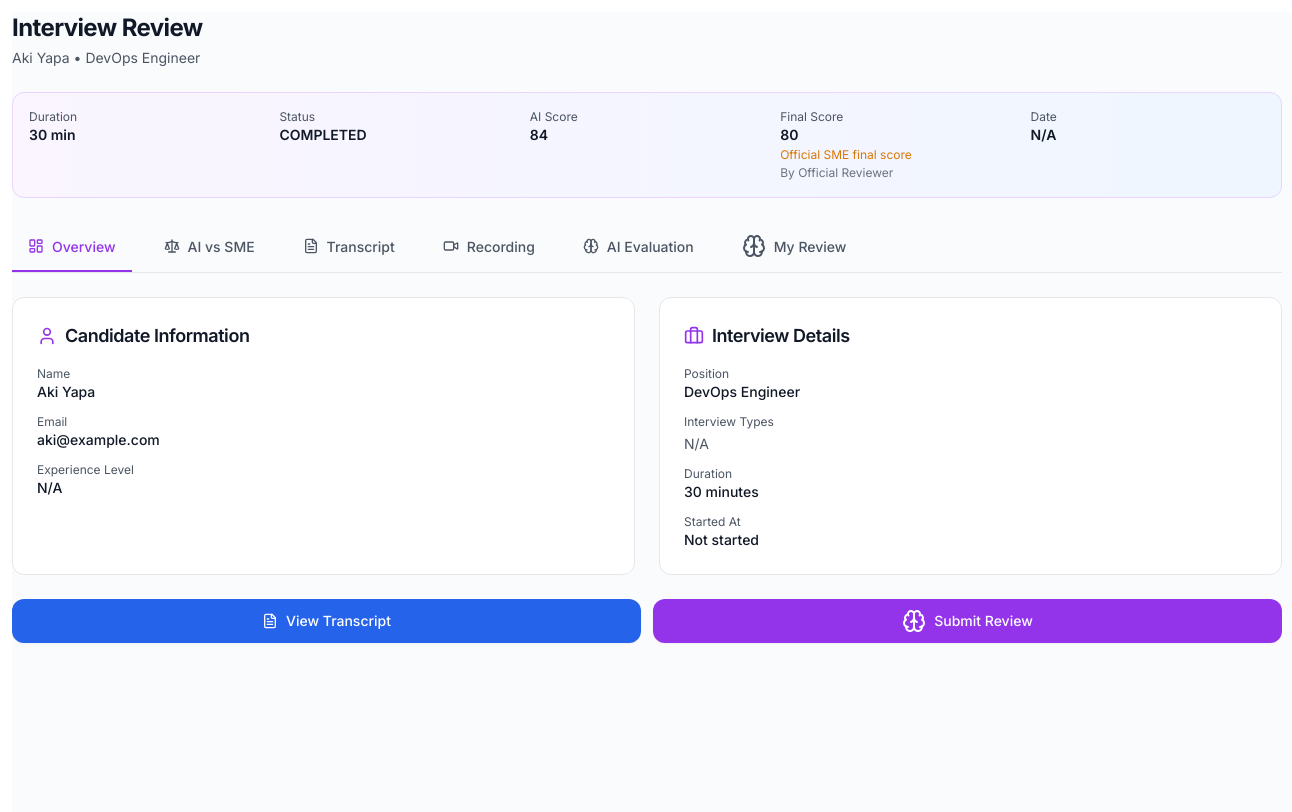
it: InterviewReviewEnhanced role experience › shows submitted reviewer scores before a reviewer submits their own review
Click the button "My Review" at (794, 247), box [726,222,862,272]
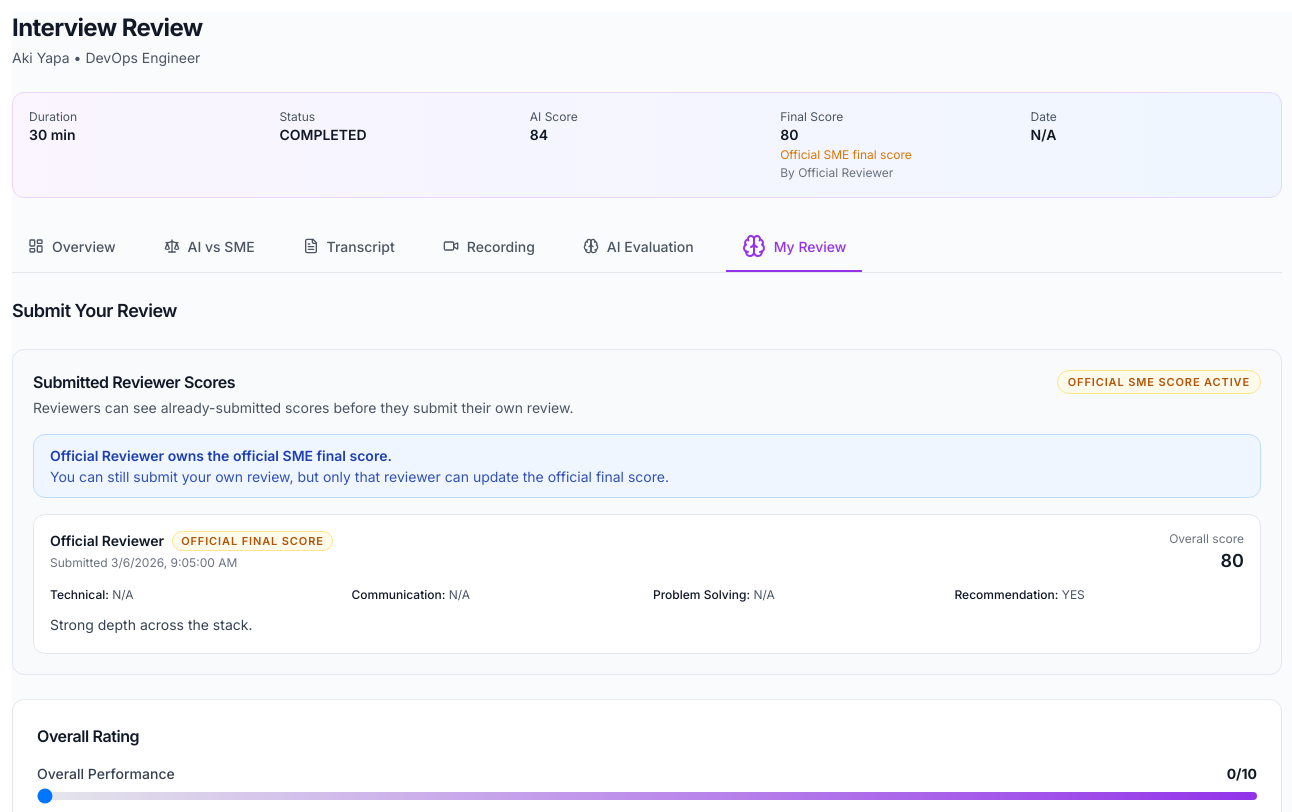
Expected: the heading "Submitted Reviewer Scores" is shown, [33,372,235,392]
Expected: the text "Official Reviewer owns the official SME final score." is shown, [50,447,392,464]
Expected: the text "Strong depth across the stack." is shown, [50,616,252,633]
